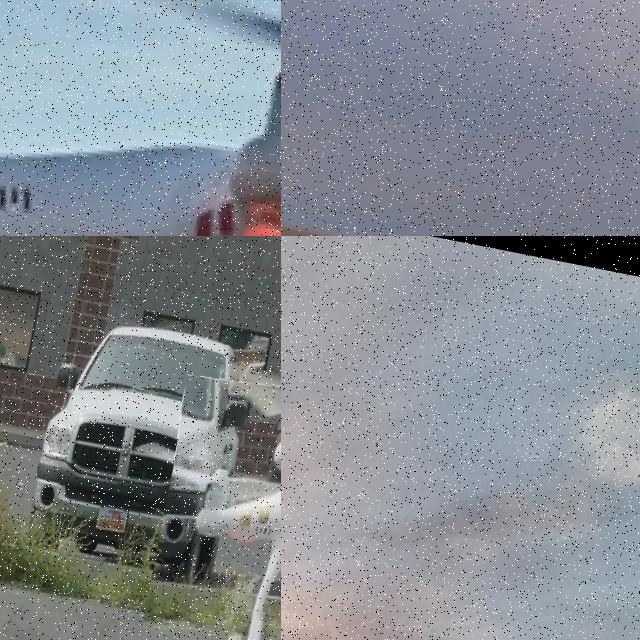drone: (0, 0, 281, 236), (132, 359, 281, 640)
